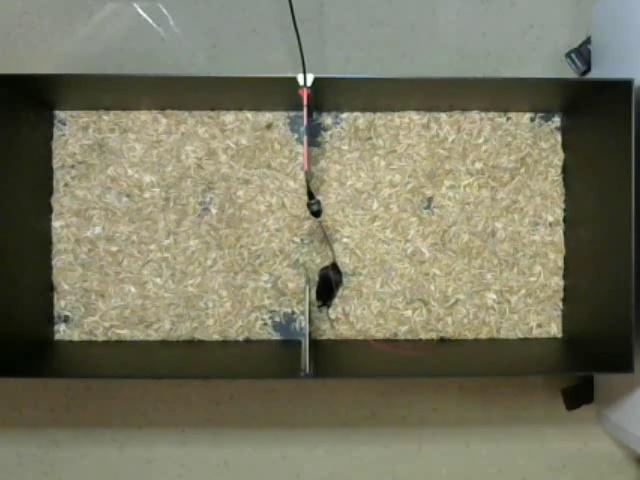rat: (314, 218, 344, 311)
